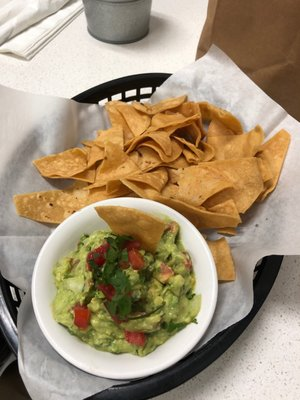pizza: (81, 0, 152, 44)
sushi: (30, 198, 219, 381)
